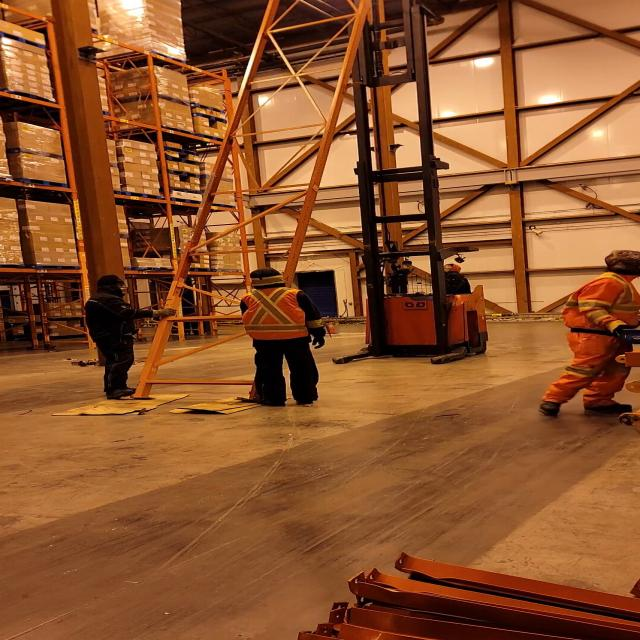forklift: (329, 158, 490, 366)
human: (534, 248, 640, 418), (232, 265, 328, 407), (80, 273, 180, 400), (419, 262, 482, 296)
objectofinterest: (114, 12, 376, 405), (49, 385, 193, 417), (160, 390, 304, 416)
